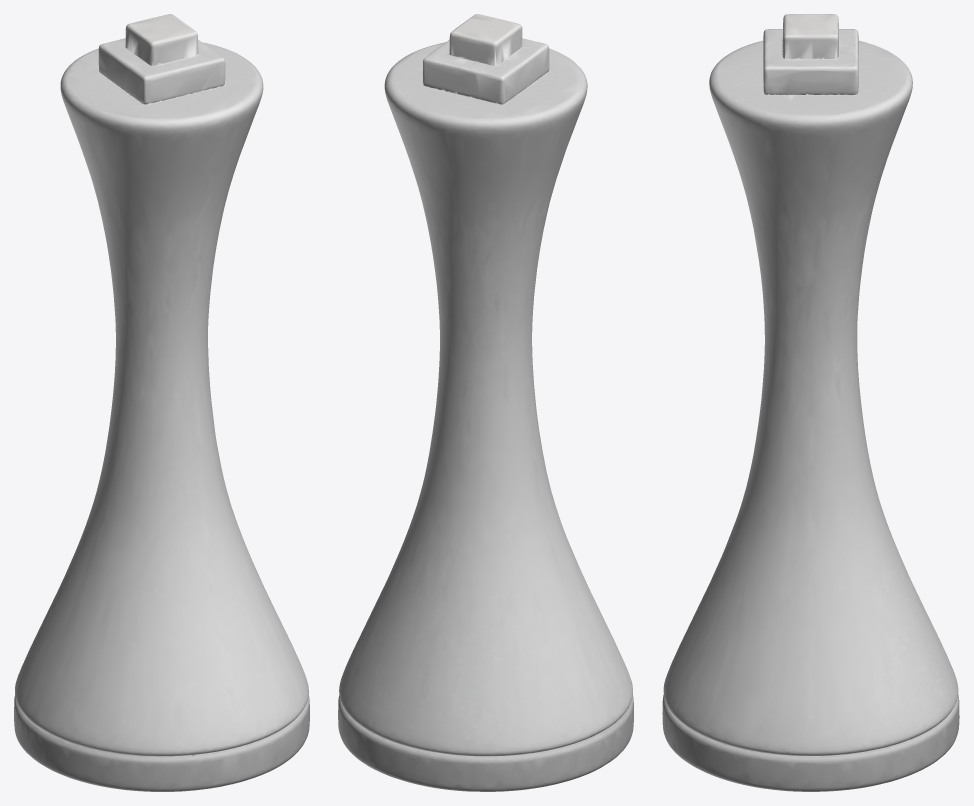
File: king-white-hd.glb
The picture shows the model from 3 angles, left to right: view 1: azimuth 30°, elevation 25°; view 2: azimuth 150°, elevation 25°; view 3: azimuth 270°, elevation 25°; orthographic projection.
Size of the model in its own units: 0.6655 by 1.75 by 0.6653.
Materials: 1 (1 with a texture image).
